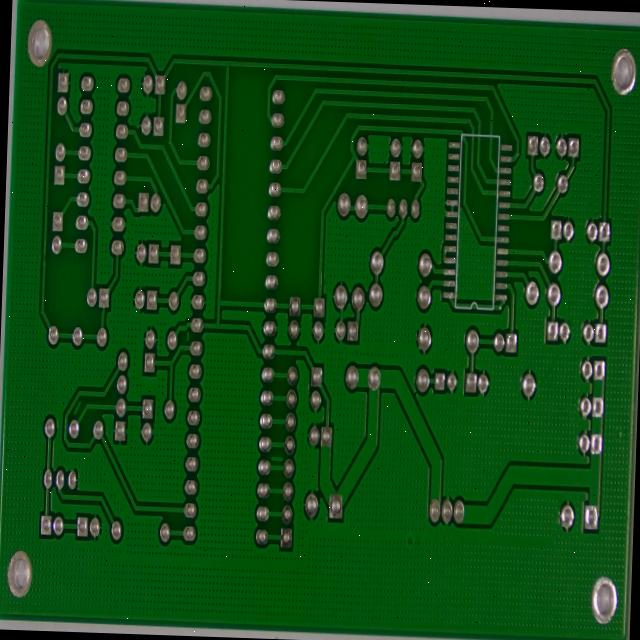spurious_copper: (259, 425, 276, 453), (55, 373, 70, 395), (172, 297, 181, 314)
